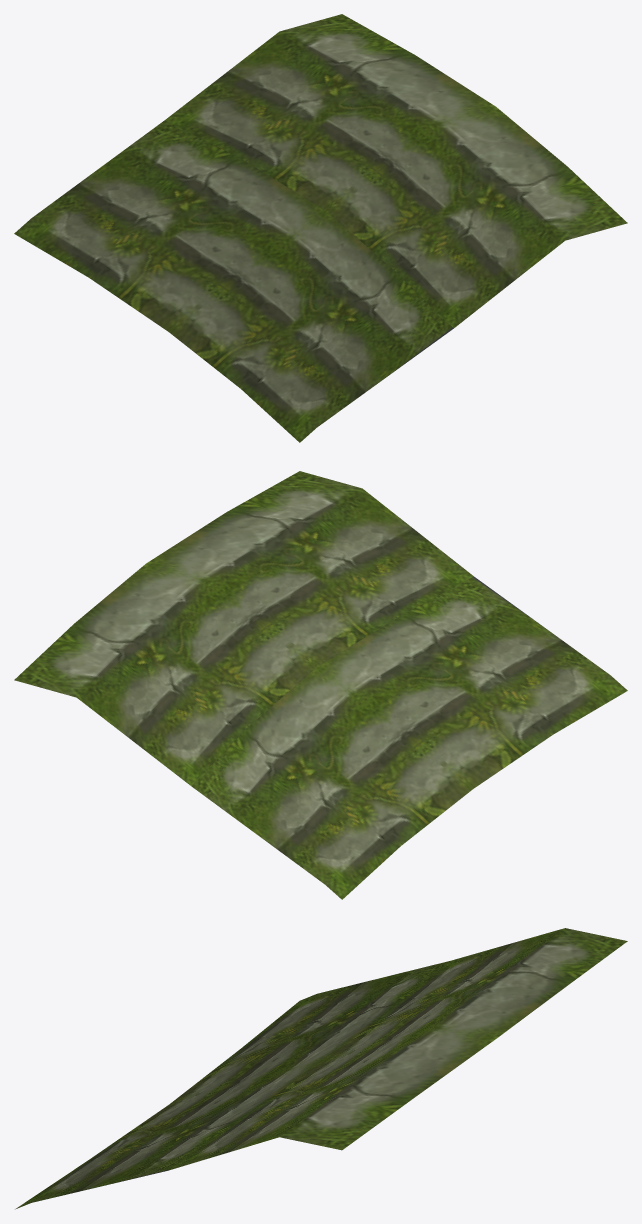
The model's file is louti01_01.FBX.
The picture shows the model from 3 angles, top to bottom: view 1: azimuth 30°, elevation 25°; view 2: azimuth 150°, elevation 25°; view 3: azimuth 330°, elevation 25°; orthographic projection.
Visible parts, largest first — view 1: louti01_01; view 2: louti01_01; view 3: louti01_01.
Part boxes in pixels (left/top/right/bottom): louti01_01: left=14, top=14, right=627, bottom=442; louti01_01: left=14, top=471, right=627, bottom=899; louti01_01: left=15, top=928, right=627, bottom=1209.
Size of the model in its own units: 1109 by 466 by 1619.
